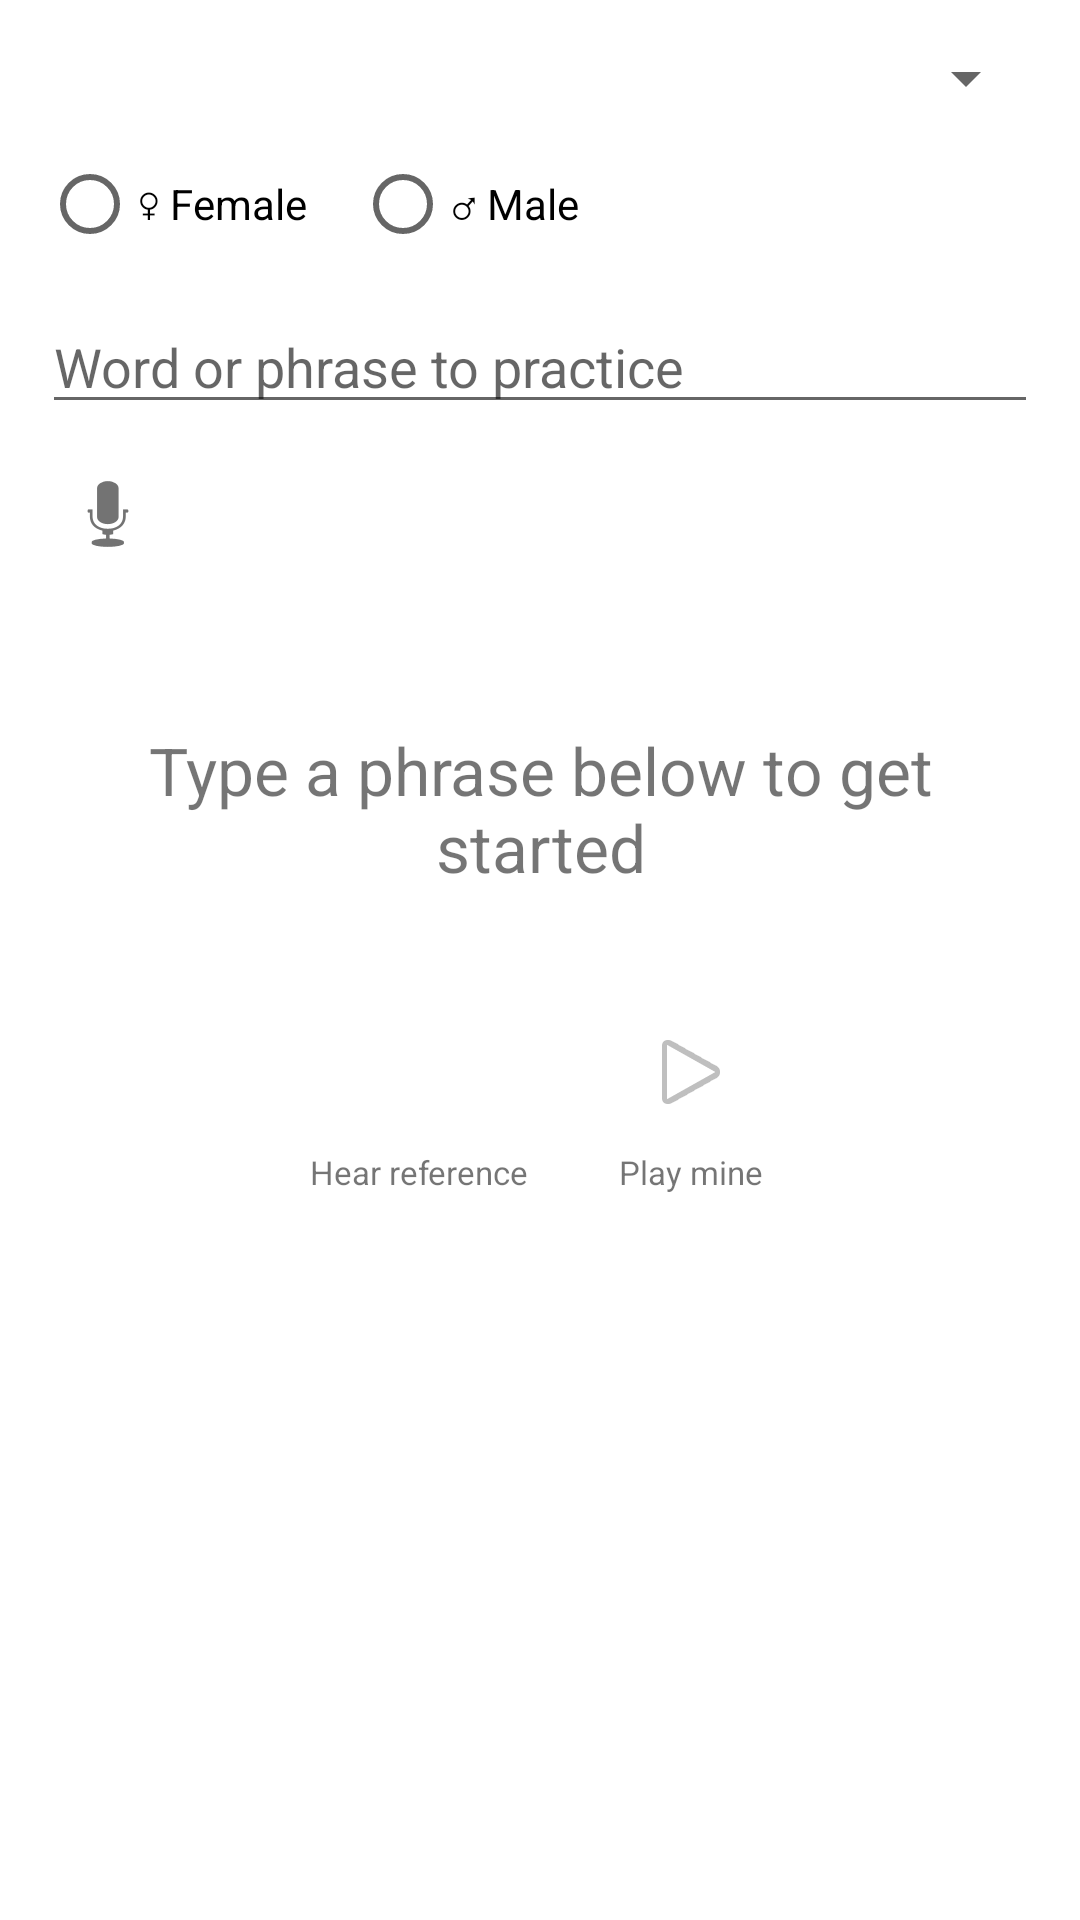

Named icons in this screenshot (1080 x 1920) and their centers, (x,y):
Play my last attempt: (691,1072)
Record my attempt: (108,514)
